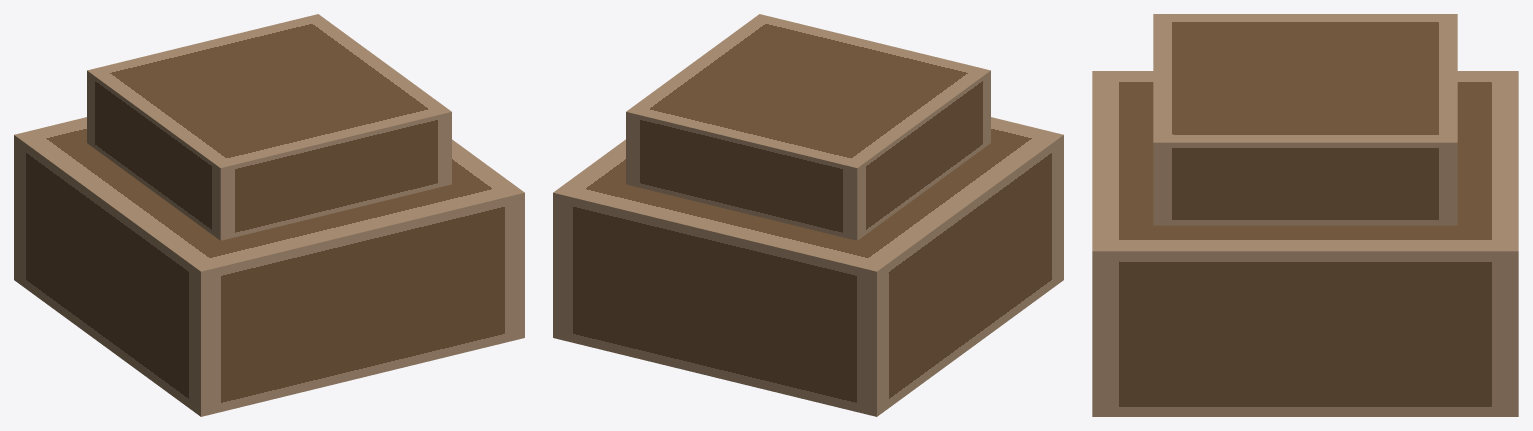
The model's file is shoulder.R.glb.
3 views of the same model, side by side, from view 1: azimuth 30°, elevation 25°; view 2: azimuth 150°, elevation 25°; view 3: azimuth 270°, elevation 25° (orthographic). The views are drawn at different scales.
Visible parts, largest first — view 1: shoulder.R; view 2: shoulder.R; view 3: shoulder.R.
Part boxes in pixels (left/top/right/bottom): shoulder.R: left=14, top=14, right=524, bottom=416; shoulder.R: left=553, top=14, right=1063, bottom=416; shoulder.R: left=1092, top=14, right=1518, bottom=416.
Size of the model in its own units: 0.14 by 0.09 by 0.14.
1 material, 1 textured.
